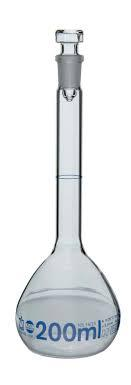Volumetric flask: (6, 13, 129, 362)
